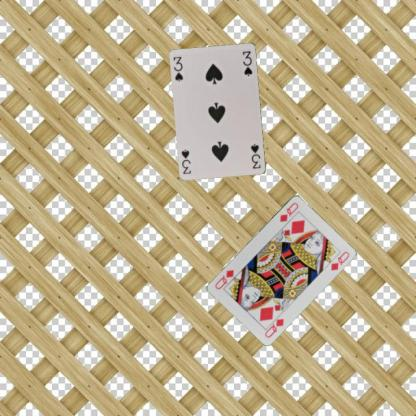3s: (248, 141, 262, 170), (171, 54, 184, 83)
Qd: (262, 311, 285, 338), (277, 199, 300, 223)
